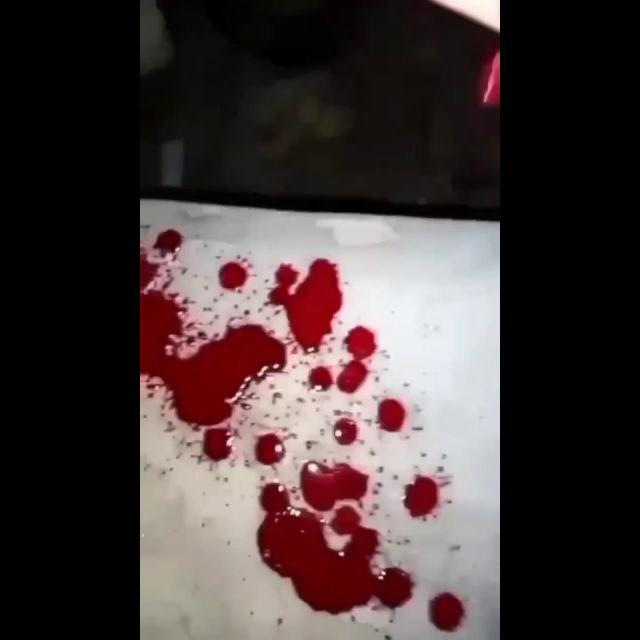blood: (140, 229, 415, 616), (404, 476, 438, 518), (429, 594, 464, 633), (218, 258, 250, 290), (378, 399, 406, 432)
